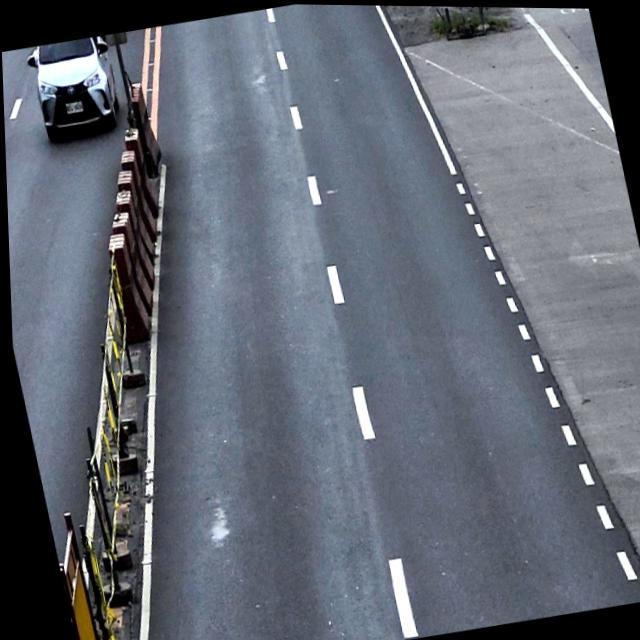Car: (22, 33, 125, 142)
License-Plate: (62, 97, 84, 114)
